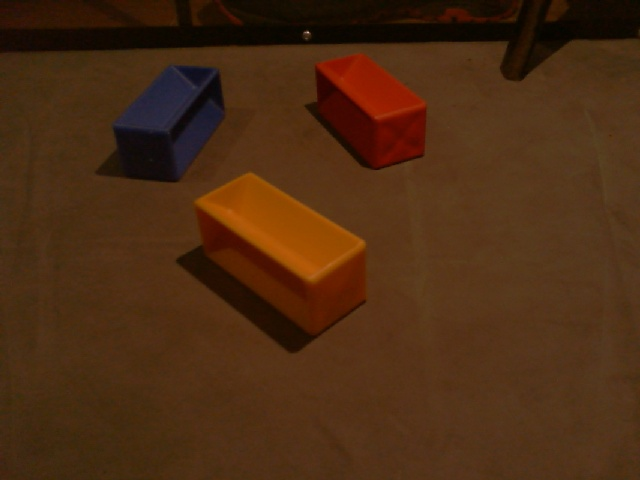BlueSample: (109, 61, 227, 185)
RedSample: (312, 53, 428, 168)
YellowSample: (192, 169, 371, 341)
